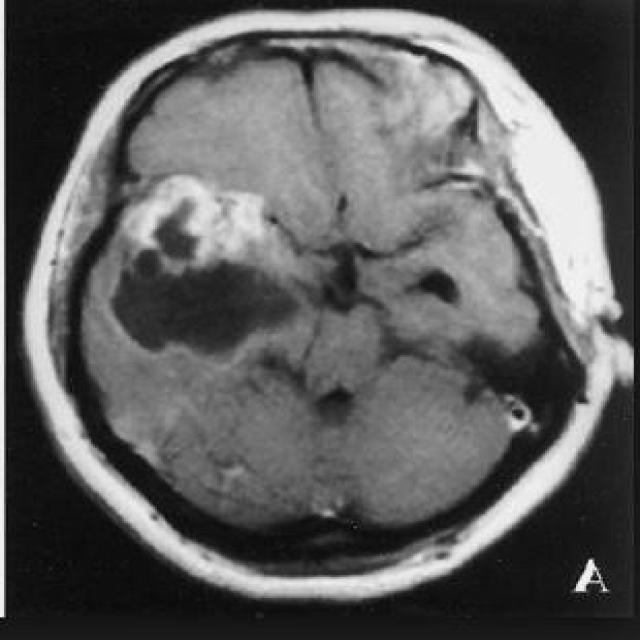Tumor-Cell: (122, 160, 320, 322)
